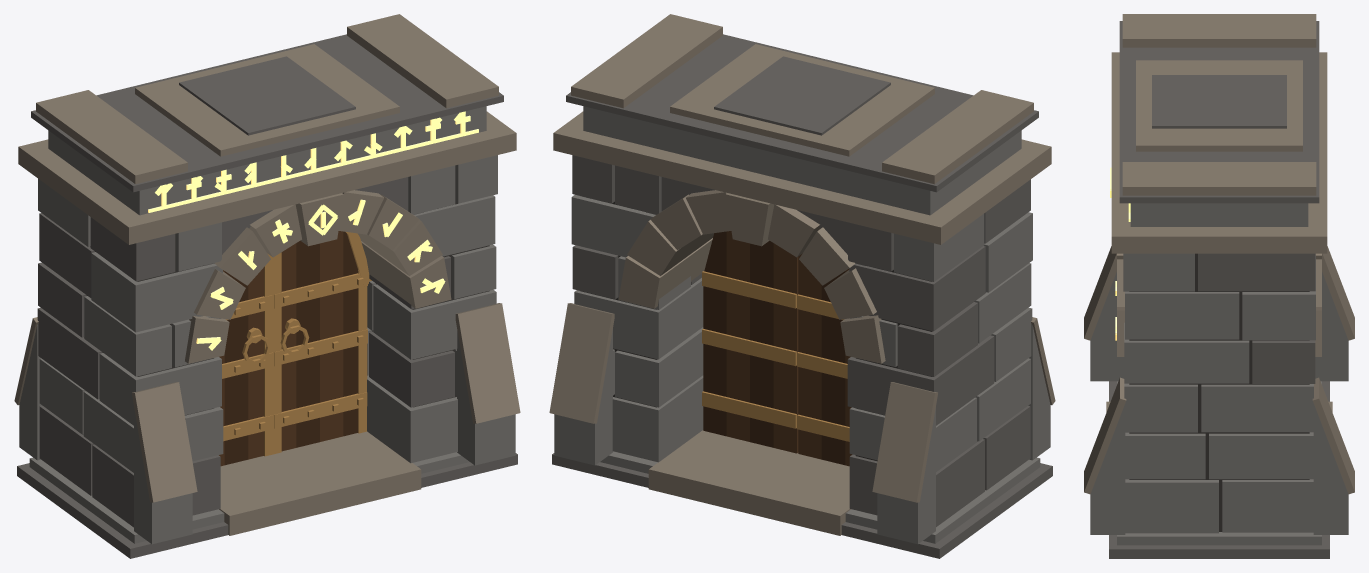
The model's file is greatgate.glb.
3 renders of one model, left to right at view 1: azimuth 30°, elevation 25°; view 2: azimuth 150°, elevation 25°; view 3: azimuth 270°, elevation 25°, orthographic. The views are drawn at different scales.
Parts seen in each view (by area): view 1: pier_l, crown, pier_r, buttresses, cornice, arch_voussoirs, threshold, door_r, door_r_bronze, parapet, plinth, door_l (+5 smaller); view 2: pier_l, crown, pier_r, buttresses, cornice, door_r, arch_voussoirs, threshold, parapet, plinth, door_l, door_r_bronze (+3 smaller); view 3: pier_r, crown, buttresses, cornice, plinth, parapet, arch_voussoirs.
Part boxes in pixels (bbox=[...]): pier_l: bbox=[37, 178, 223, 527]; crown: bbox=[31, 14, 503, 192]; pier_r: bbox=[367, 155, 497, 463]; buttresses: bbox=[14, 303, 520, 544]; cornice: bbox=[18, 111, 516, 244]; arch_voussoirs: bbox=[185, 190, 451, 363]; threshold: bbox=[219, 431, 421, 535]; door_r: bbox=[281, 231, 357, 451]; door_r_bronze: bbox=[273, 231, 371, 454]; parapet: bbox=[48, 106, 486, 215]; plinth: bbox=[17, 452, 517, 558]; door_l: bbox=[219, 267, 263, 466]; pier_l: bbox=[847, 179, 1032, 526]; crown: bbox=[566, 14, 1038, 192]; pier_r: bbox=[571, 155, 703, 462]; buttresses: bbox=[549, 303, 1055, 544]; cornice: bbox=[553, 111, 1051, 244]; door_r: bbox=[703, 231, 798, 453]; arch_voussoirs: bbox=[618, 190, 885, 363]; threshold: bbox=[648, 430, 850, 535]; parapet: bbox=[583, 106, 1021, 215]; plinth: bbox=[552, 451, 1052, 558]; door_l: bbox=[798, 253, 852, 466]; door_r_bronze: bbox=[702, 271, 796, 428]; pier_r: bbox=[1123, 253, 1315, 533]; crown: bbox=[1119, 14, 1319, 203]; buttresses: bbox=[1084, 246, 1354, 534]; cornice: bbox=[1111, 52, 1327, 253]; plinth: bbox=[1109, 381, 1329, 558]; parapet: bbox=[1130, 203, 1308, 226]; arch_voussoirs: bbox=[1117, 253, 1321, 356].
Size of what is drawn, in the model's own units: 3.24 by 3 by 2.01.
